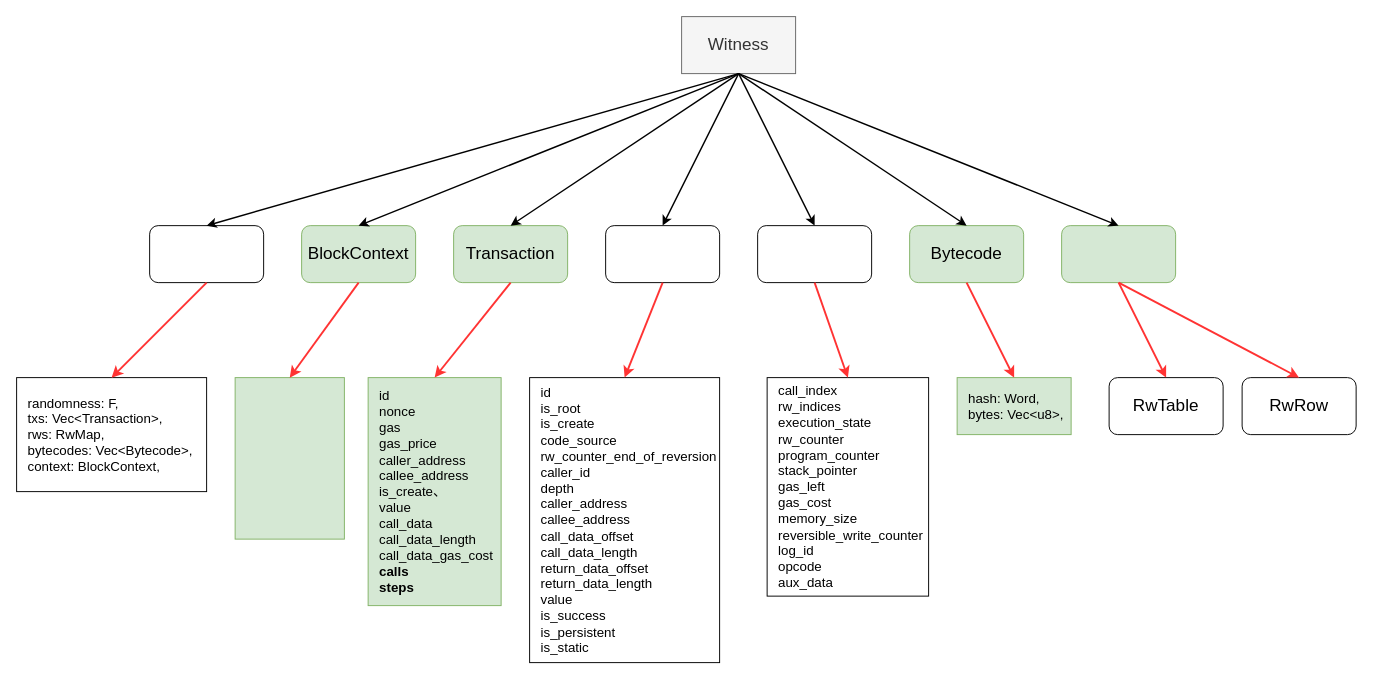
This 1373x679 diagram has some shape labels left out. The shapes that lost their labels are listed below. From the top down, each one's centre as x and y in pixels, then its label:
the point at 206,254: Block
the point at 662,254: Call
the point at 814,254: ExecStep
the point at 1118,254: RwTag
the point at 289,458: coinbase gas_limit number timestamp difficulty base_fee history_hashes chain_id
